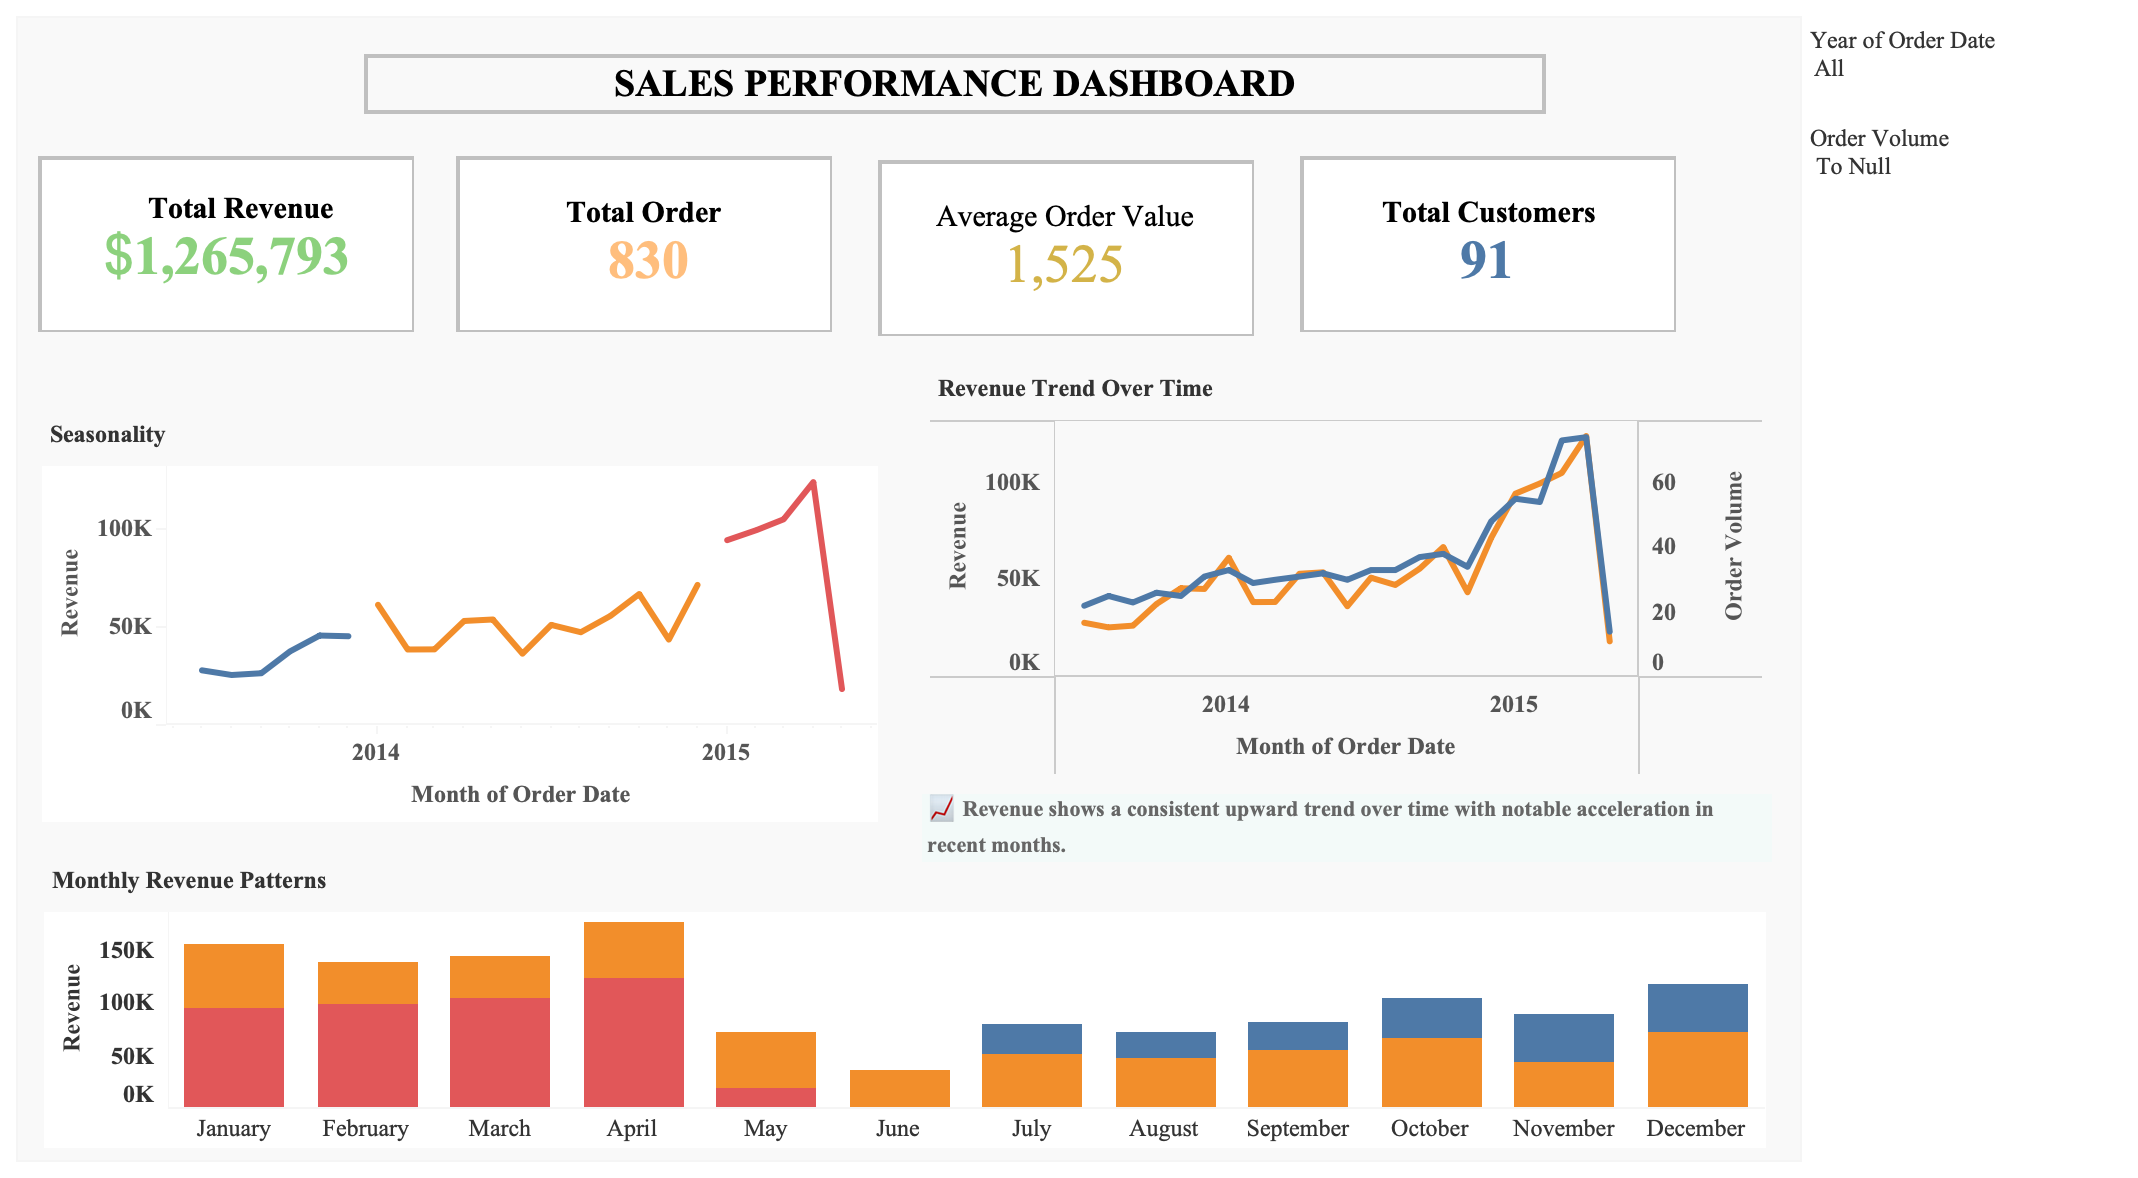

What the dashboard file says about the page in this screenshot:
{"tool":"tableau","page":{"name":"Sales and Revenue Overview","canvas":[1069,589],"ordinal":3},"visuals":[{"type":"filter","title":"Revenue Trend Over Time","param":"[federated.0mvdz6j06fmfxy10p40rm1pjm4gl].[yr:orderDate:ok]","box":[901,8,160,49]},{"type":"text","box":[182,27,591,30]},{"type":"filter","title":"Revenue Trend Over Time","param":"[federated.0mvdz6j06fmfxy10p40rm1pjm4gl].[usr:Calculation_0364071424716801:qk]","box":[901,57,160,66]},{"type":"worksheet","title":"Total Revenue","mark":"Square","box":[15,74,196,96]},{"type":"worksheet","title":"Total Order","mark":"Square","box":[224,74,196,96]},{"type":"worksheet","title":"Total Customers","mark":"Square","box":[646,74,196,96]},{"type":"worksheet","title":"Average Order Value","mark":"Square","box":[435,76,196,96]},{"type":"worksheet","title":"Revenue Trend Over Time","mark":"Line","rows":["Calculation_0364071424393216","Calculation_0364071424716801"],"cols":["orderDate"],"box":[461,177,425,215]},{"type":"worksheet","title":"Seasonality","mark":"Automatic","rows":["Calculation_0364071424393216"],"cols":["orderDate"],"box":[17,200,425,215]},{"type":"text","box":[461,397,425,34]},{"type":"worksheet","title":"Monthly Revenue Patterns","mark":"Bar","rows":["Calculation_0364071424393216"],"cols":["orderDate"],"box":[18,423,868,155]}]}

Visuals, with their boxes in screenshot pixels (x1, y1, x2, y2), scaled from the page's 1069x589 canvas onto the 2138x1178 screenshot:
"Revenue Trend Over Time" filter: (1802,16,2122,114)
text: (364,54,1546,114)
"Revenue Trend Over Time" filter: (1802,114,2122,246)
"Total Revenue" worksheet (Square marks): (30,148,422,340)
"Total Order" worksheet (Square marks): (448,148,840,340)
"Total Customers" worksheet (Square marks): (1292,148,1684,340)
"Average Order Value" worksheet (Square marks): (870,152,1262,344)
"Revenue Trend Over Time" worksheet (Line marks): (922,354,1772,784)
"Seasonality" worksheet: (34,400,884,830)
text: (922,794,1772,862)
"Monthly Revenue Patterns" worksheet (Bar marks): (36,846,1772,1156)
